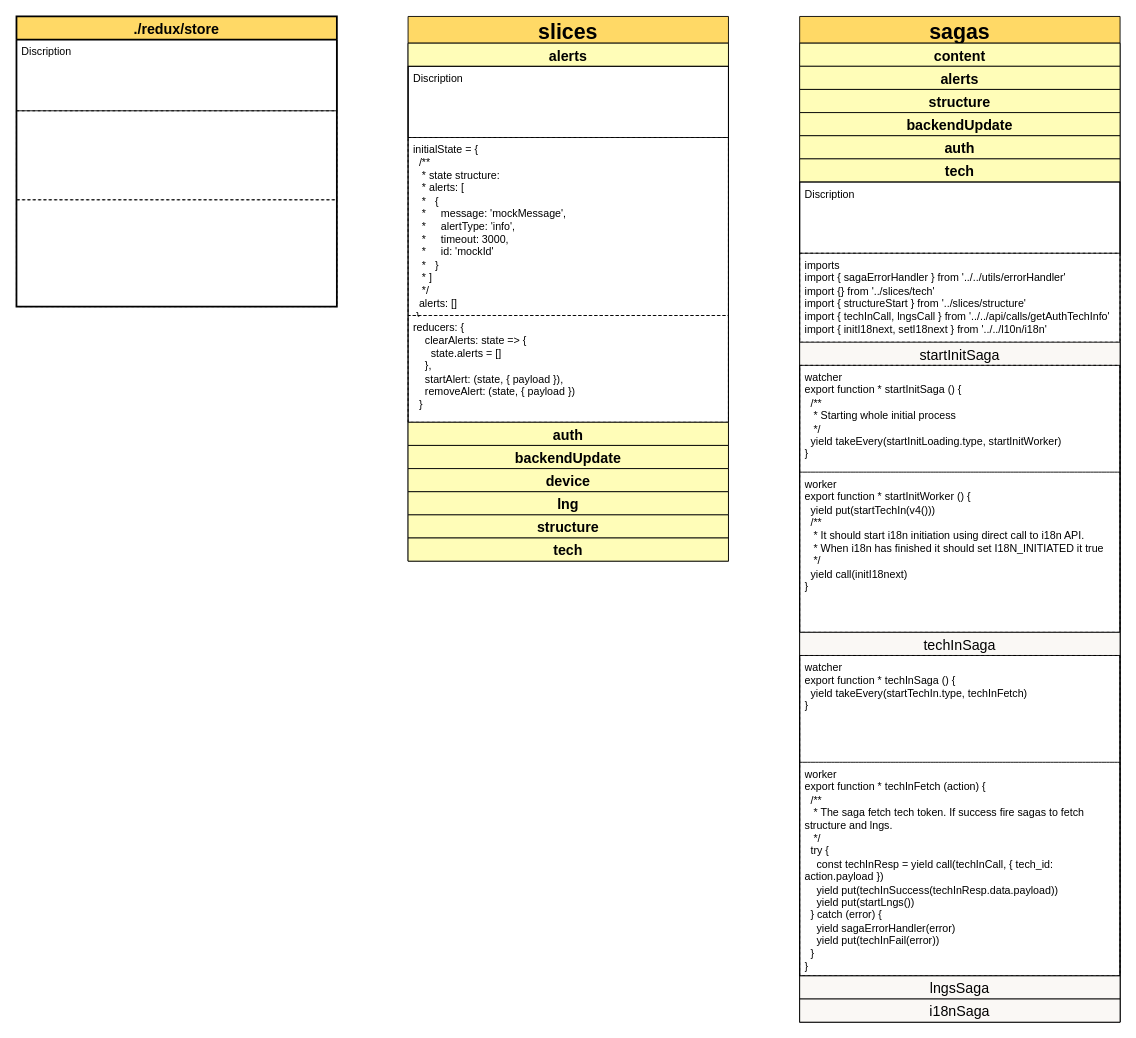
Some shapes in this 1136 by 1038 pixel diagram are drawn without their labels. Each missing label, with the centre of its shape:
"exports const store = configureStore({ reducer, middleware, initialState })" goes at pixel 176 253.
"imports import reducer from './slices' import rootSaga from './saga'" goes at pixel 176 155.
